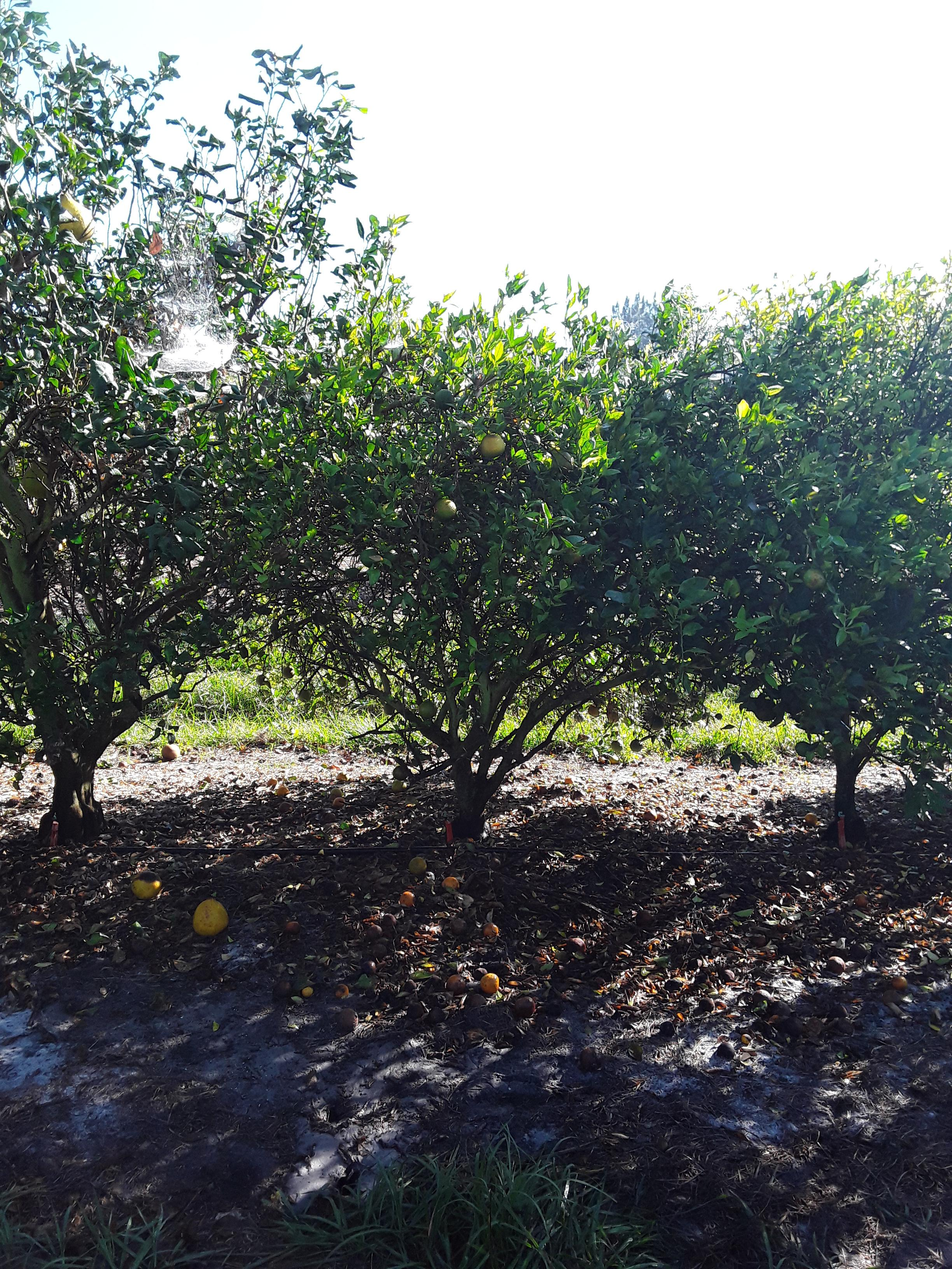fruit_on_ground: (45, 192, 100, 246), (19, 458, 58, 501), (477, 432, 508, 460), (800, 565, 829, 592), (431, 497, 458, 523), (833, 506, 860, 530), (269, 542, 293, 567), (432, 386, 456, 408), (416, 699, 439, 720), (723, 470, 744, 490), (647, 715, 666, 732), (637, 680, 655, 697), (253, 671, 271, 687), (391, 765, 408, 781), (297, 688, 314, 704), (665, 690, 682, 706), (609, 738, 625, 754), (628, 738, 645, 753), (586, 703, 601, 718), (381, 701, 396, 716), (280, 665, 295, 679), (336, 675, 349, 688)
fruit_on_tree: (190, 896, 231, 939), (129, 868, 164, 901), (327, 1005, 359, 1035), (575, 1045, 604, 1072), (510, 995, 538, 1019), (271, 976, 297, 1000), (713, 1040, 738, 1064), (444, 972, 468, 995), (478, 972, 501, 995), (406, 854, 429, 877), (329, 980, 353, 1002), (461, 992, 488, 1011), (823, 954, 847, 975), (446, 916, 470, 937), (634, 907, 656, 928), (440, 872, 462, 893), (158, 743, 181, 763), (750, 987, 773, 1007), (281, 916, 303, 936), (368, 941, 391, 960), (397, 887, 417, 907), (656, 1021, 676, 1040), (297, 981, 316, 1001), (889, 973, 910, 991), (378, 911, 398, 929), (359, 958, 379, 976), (697, 995, 717, 1013), (364, 923, 385, 940), (481, 920, 499, 939), (852, 892, 870, 909), (803, 810, 820, 827), (389, 778, 408, 793), (641, 808, 658, 822), (331, 796, 347, 810), (274, 783, 290, 797), (277, 801, 294, 814), (335, 770, 351, 783), (329, 786, 344, 799), (746, 818, 762, 830), (264, 776, 279, 788), (739, 1032, 752, 1045), (562, 775, 575, 786), (608, 755, 622, 765), (682, 806, 695, 816), (116, 760, 128, 769)
